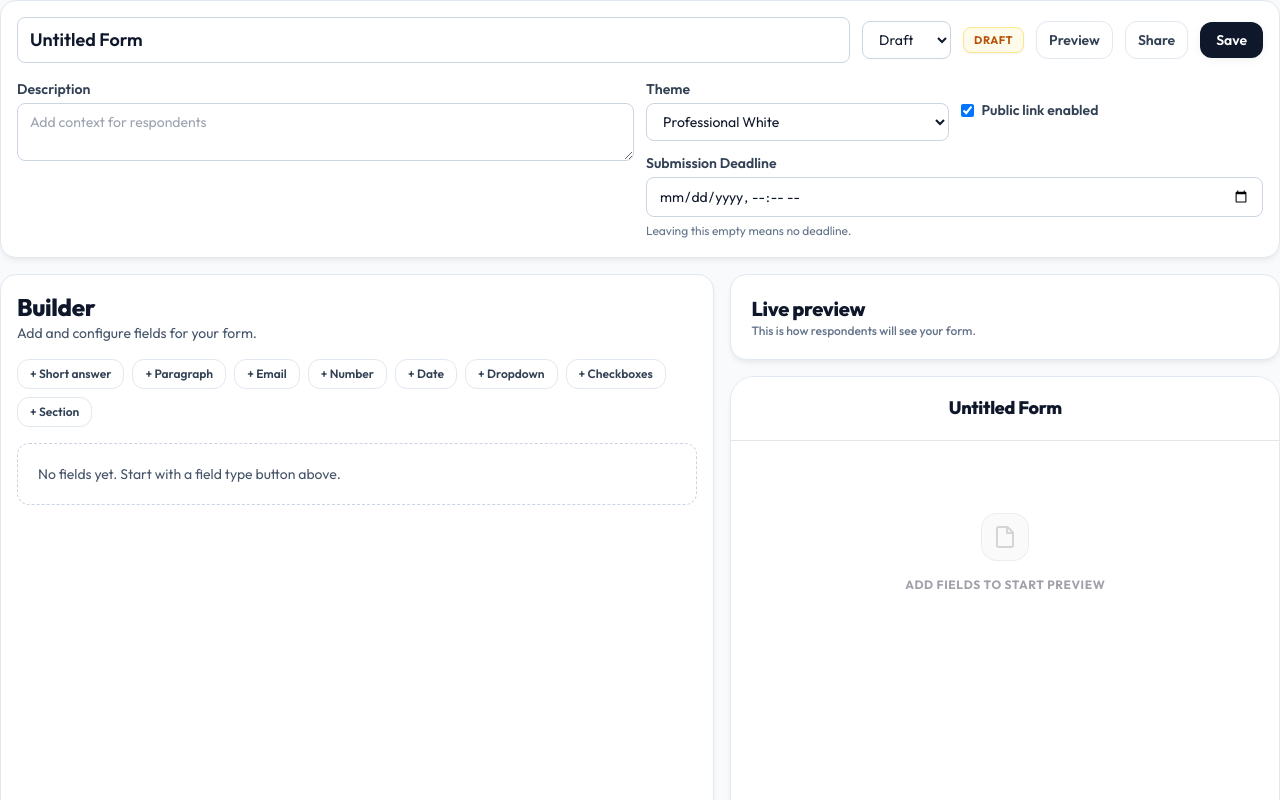
Test: FormBuilderPage › allows deleting a field
Click the button "+ Short answer": coordinates (71, 374) [17, 359, 124, 389]
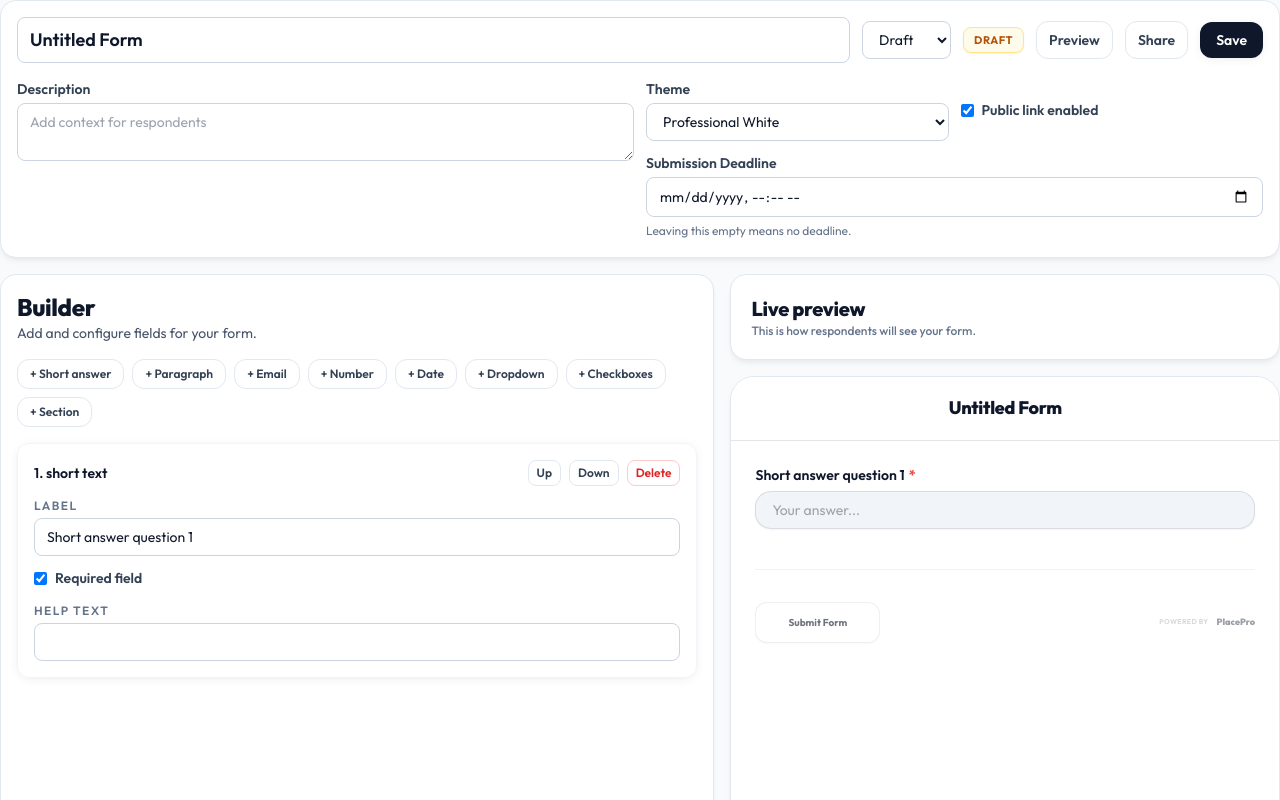
Expected: the text "1. short text" is shown, [34, 463, 107, 483]
Click the button "Delete": coordinates (654, 473) [627, 460, 680, 486]
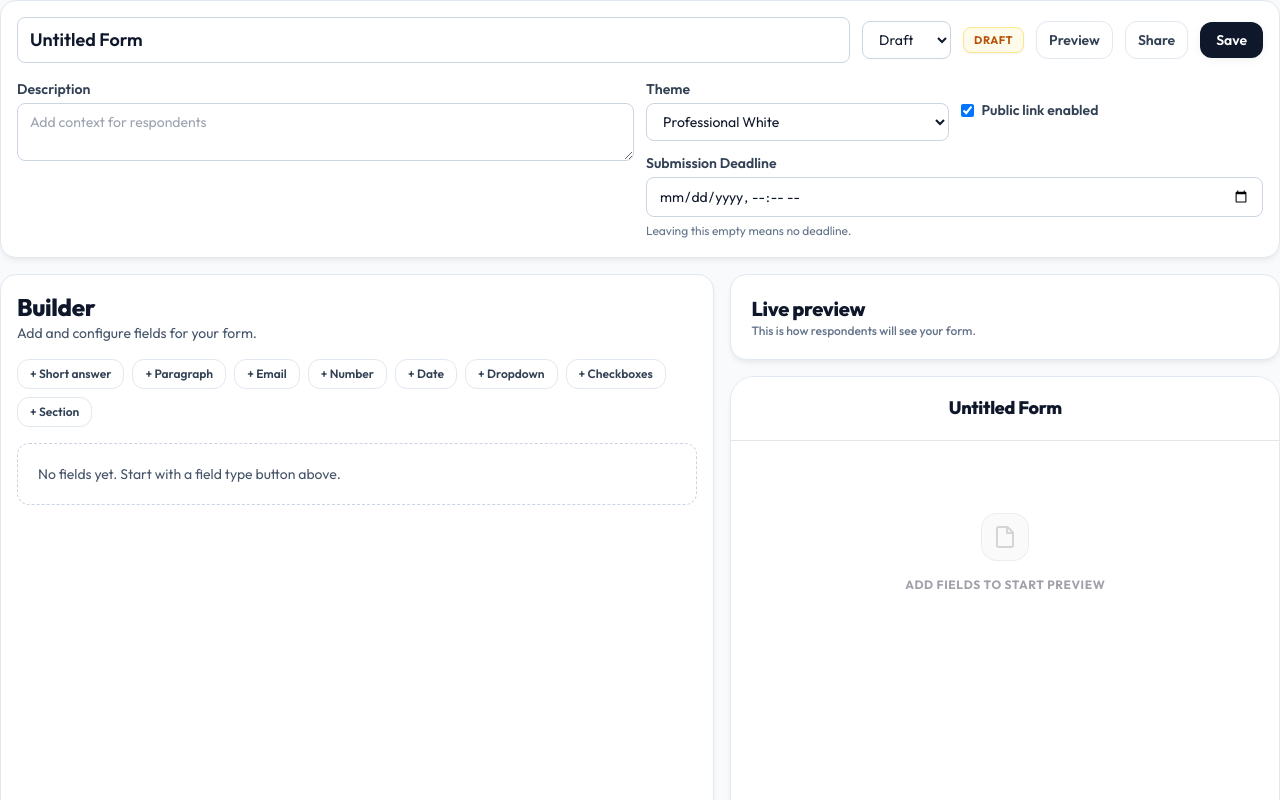
Expected: the text "short text" is gone
